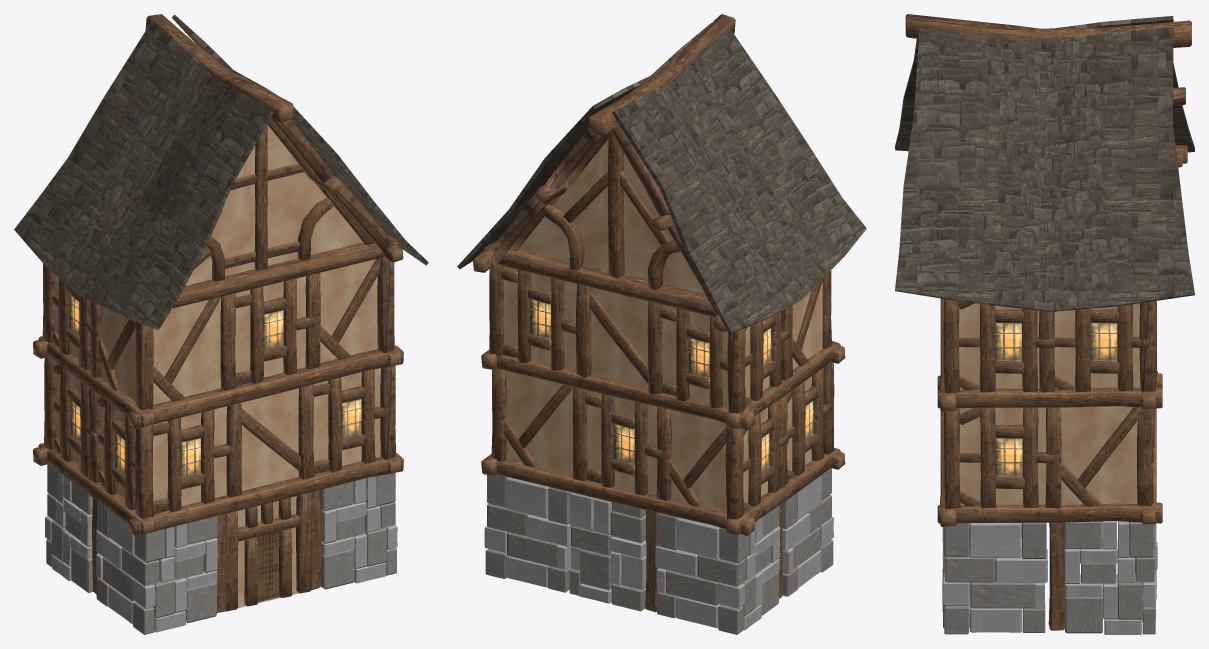
Rendered from House 3.fbx.
3 views of the same model, side by side, from view 1: azimuth 30°, elevation 25°; view 2: azimuth 150°, elevation 25°; view 3: azimuth 270°, elevation 25° (orthographic). The views are drawn at different scales.
Visible parts, largest first — view 1: House 3; view 2: House 3; view 3: House 3.
Part boxes in pixels (x1,y1,x2,y2): House 3: (14, 14, 428, 634); House 3: (457, 14, 866, 634); House 3: (895, 14, 1194, 634).
Bounding box in the file's own units: 7 × 11.85 × 5.85.
